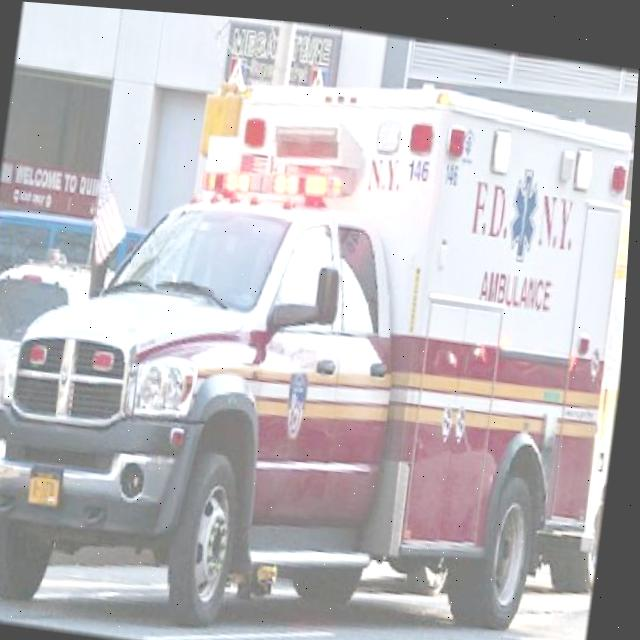emergency: (0, 22, 639, 640)
